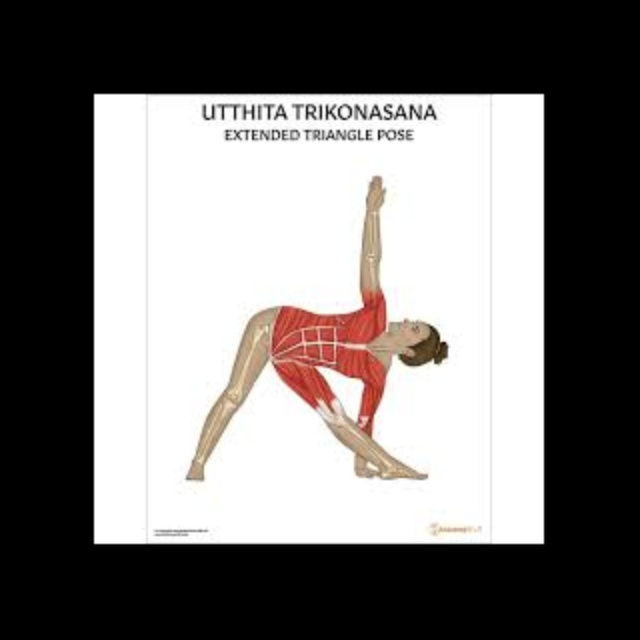Triangle_Pose: (166, 173, 453, 496)
